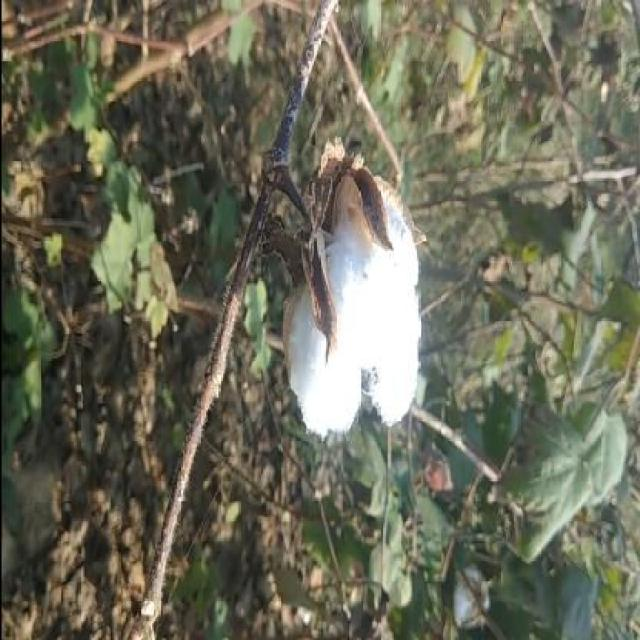cotton_ready: (221, 124, 436, 444)
